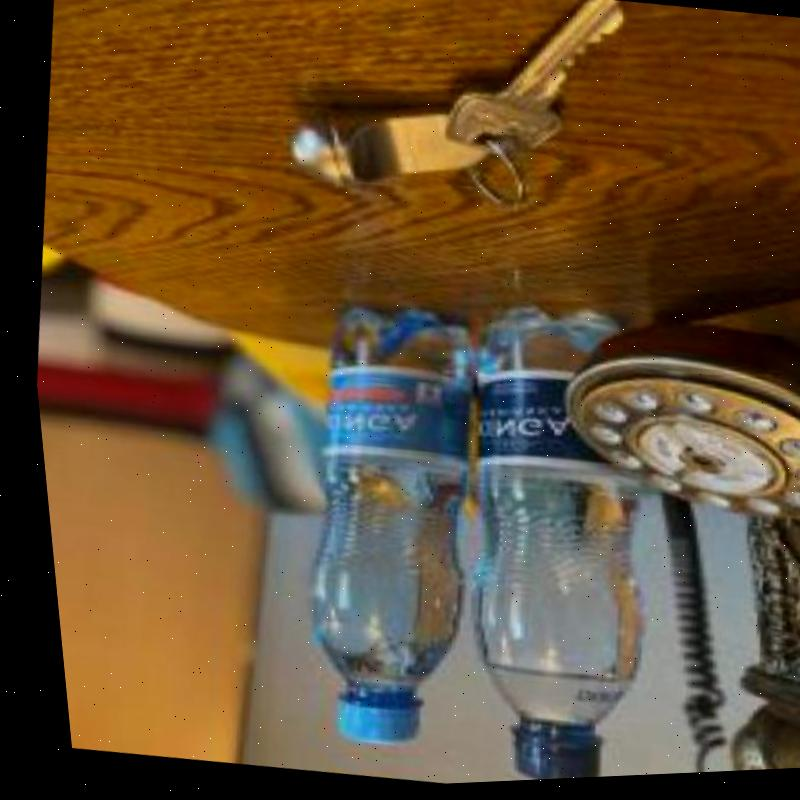botella: (412, 295, 686, 786), (251, 292, 500, 761)
